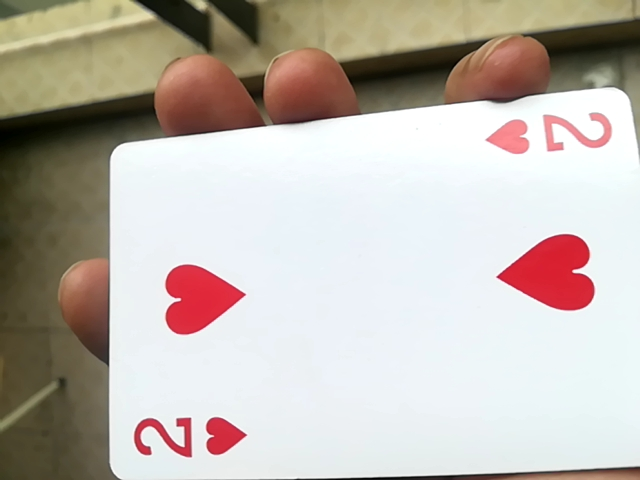hx 2: (84, 93, 634, 478)
